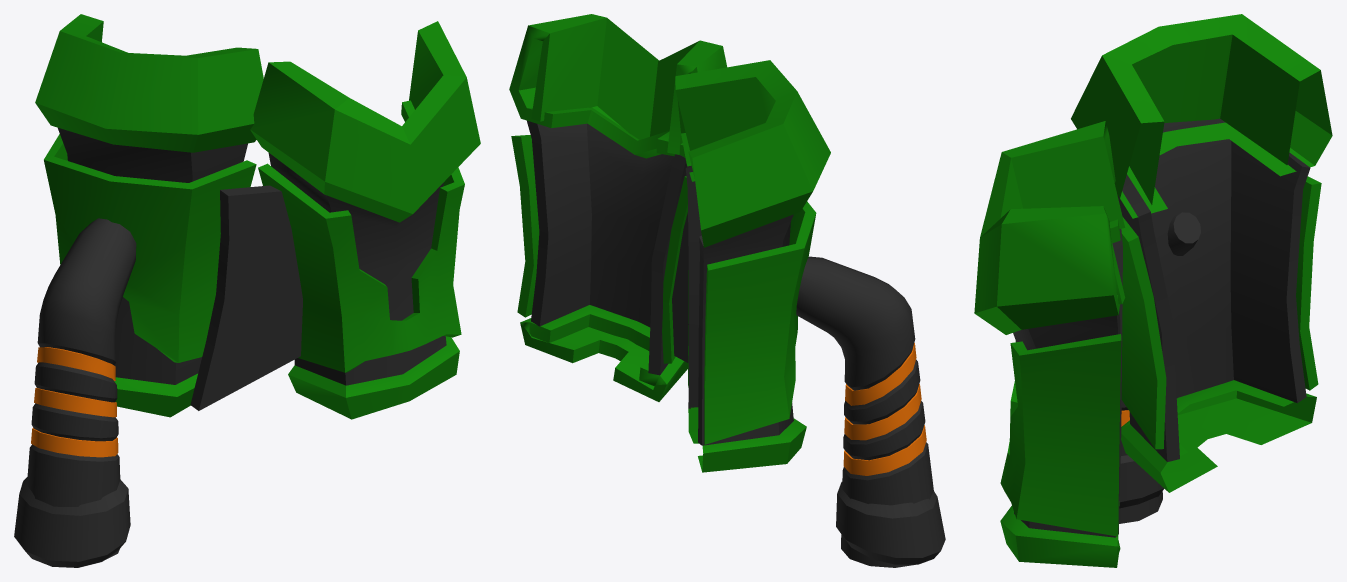
Rendered from _oga.FBX.
3 renders of one model, left to right at view 1: azimuth 30°, elevation 25°; view 2: azimuth 150°, elevation 25°; view 3: azimuth 270°, elevation 25°, orthographic. The views are drawn at different scales.
Visible parts, largest first — view 1: Bone001, Box001, Cylinder001, Bone002, Plane001; view 2: Bone001, Bone002, Cylinder001, Box001, Plane001; view 3: Bone001, Box001, Bone002, Cylinder001.
Part boxes in pixels (x1,y1,x2,y2): Bone001: [35, 14, 263, 417]; Box001: [250, 21, 480, 419]; Cylinder001: [14, 218, 136, 567]; Bone002: [258, 152, 464, 385]; Plane001: [190, 185, 302, 410]; Bone001: [675, 60, 830, 472]; Bone002: [511, 120, 687, 375]; Cylinder001: [796, 256, 945, 567]; Box001: [509, 14, 726, 401]; Plane001: [672, 212, 688, 362]; Bone001: [1071, 14, 1332, 492]; Box001: [974, 121, 1125, 567]; Bone002: [1000, 229, 1122, 537]; Cylinder001: [1119, 212, 1200, 523].
Bounding box in the file's own units: 15.94 × 16.38 × 10.27.
